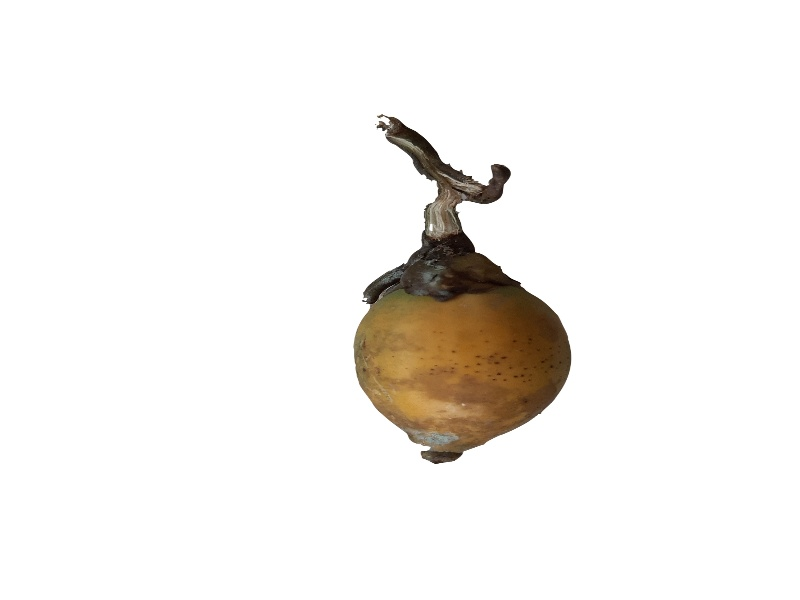arecanut: (341, 239, 580, 471)
